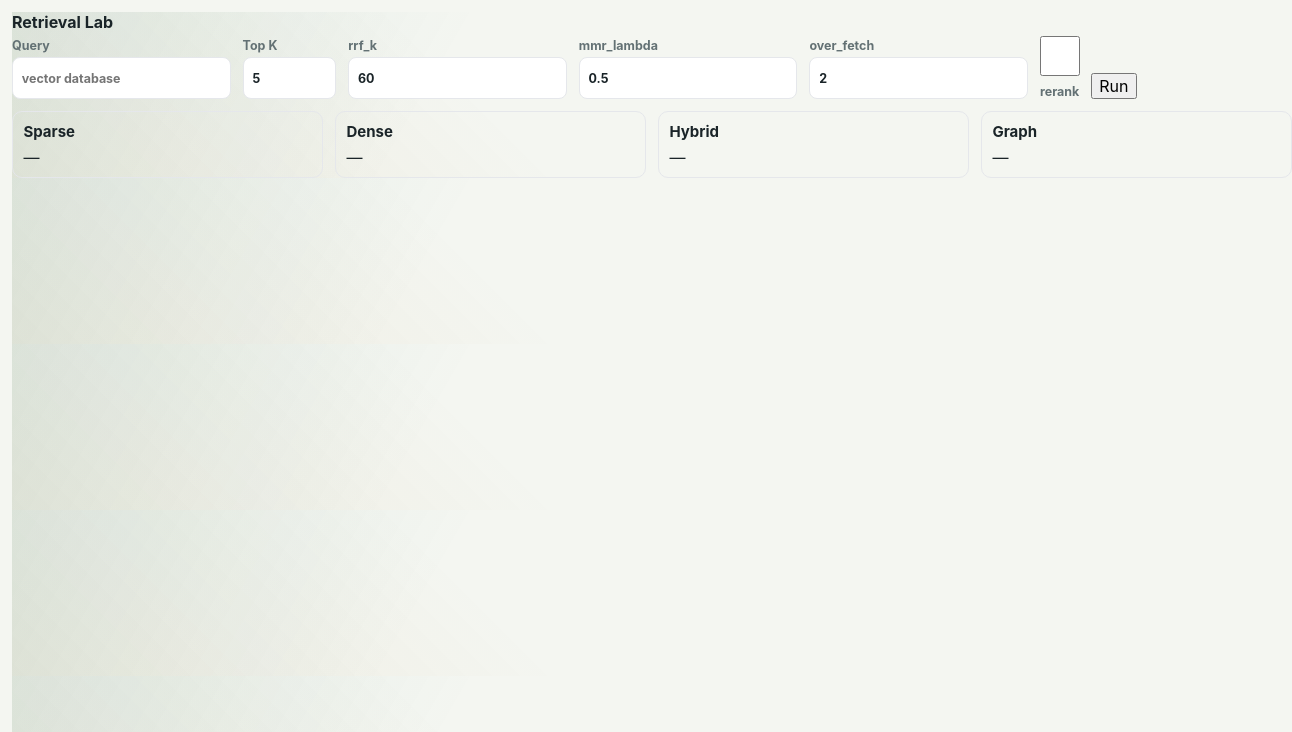
RetrievalLab › shows 'no reranker active' when rerank is on but mode is unchanged
The image size is (1292, 732).
Type "q" into the field labelled "Query" at (121, 78), box [12,57,231,99]
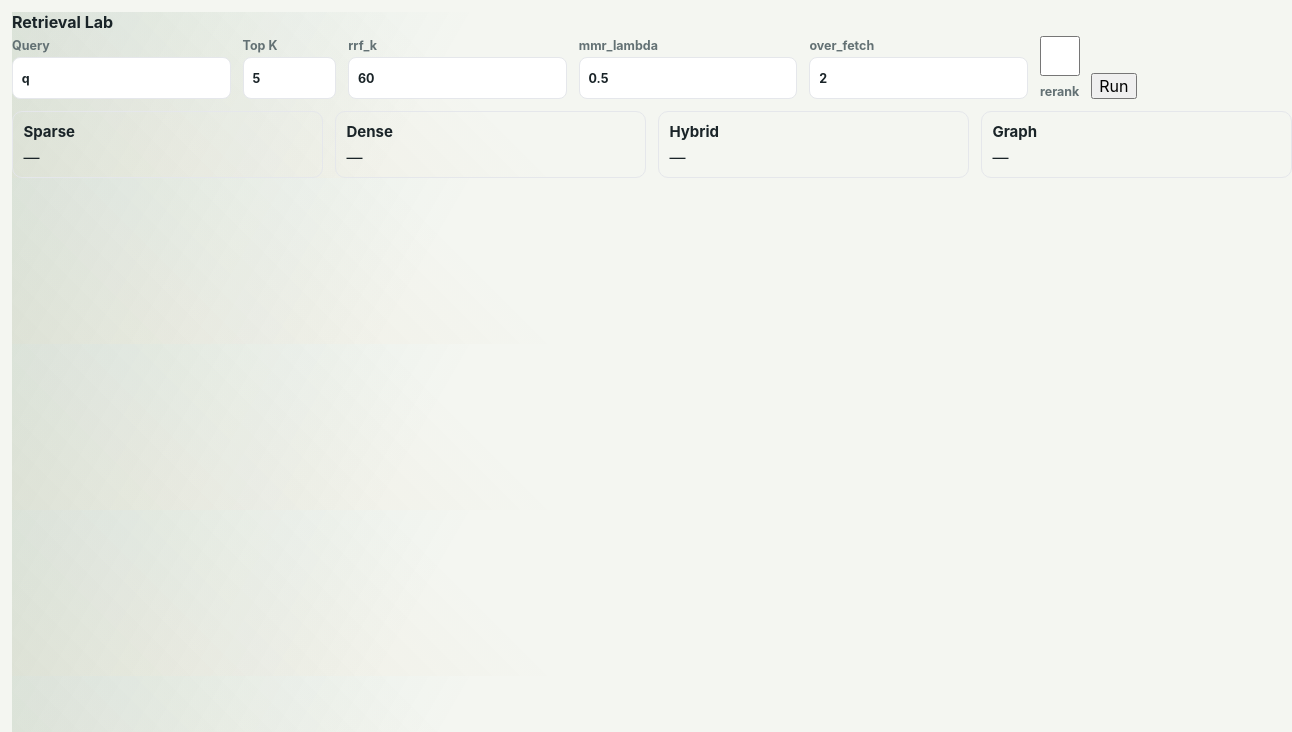
Click the checkbox labelled "rerank" at (1060, 56), box [1040,35,1080,77]
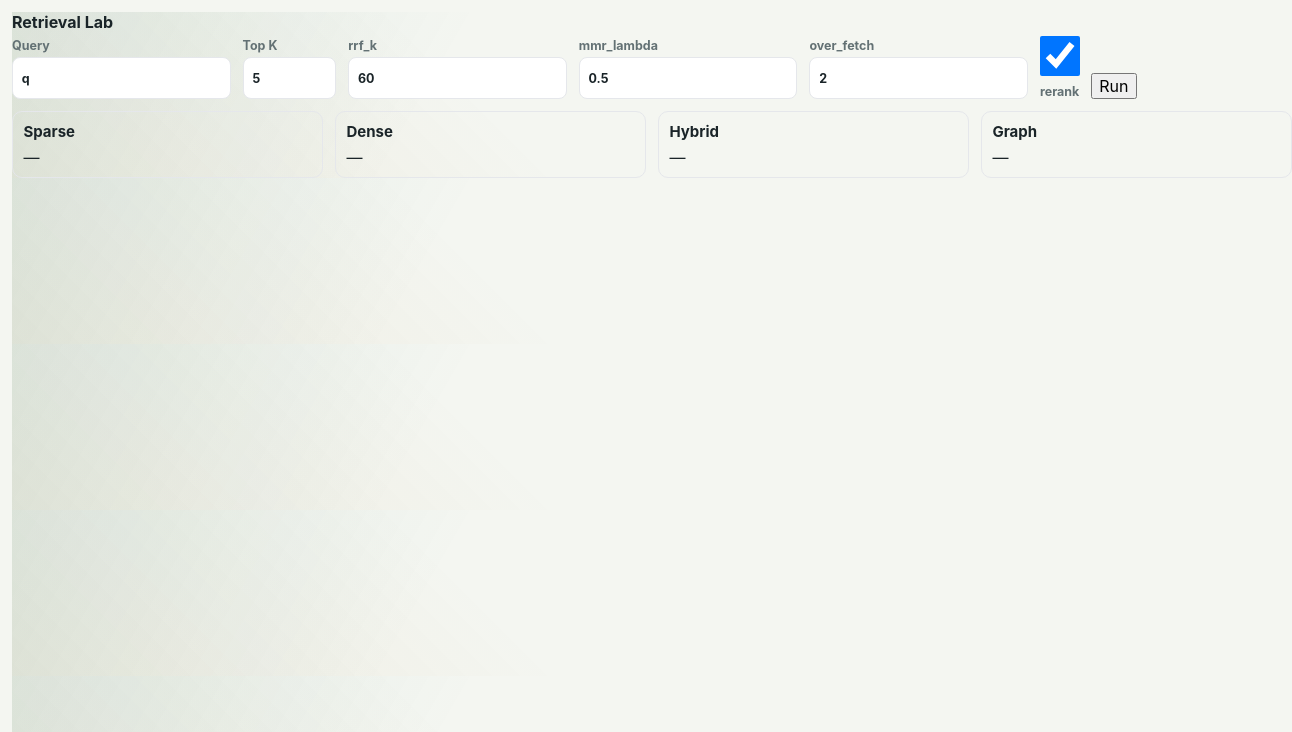
Click the button "Run" at (1114, 86), box [1091,73,1136,99]
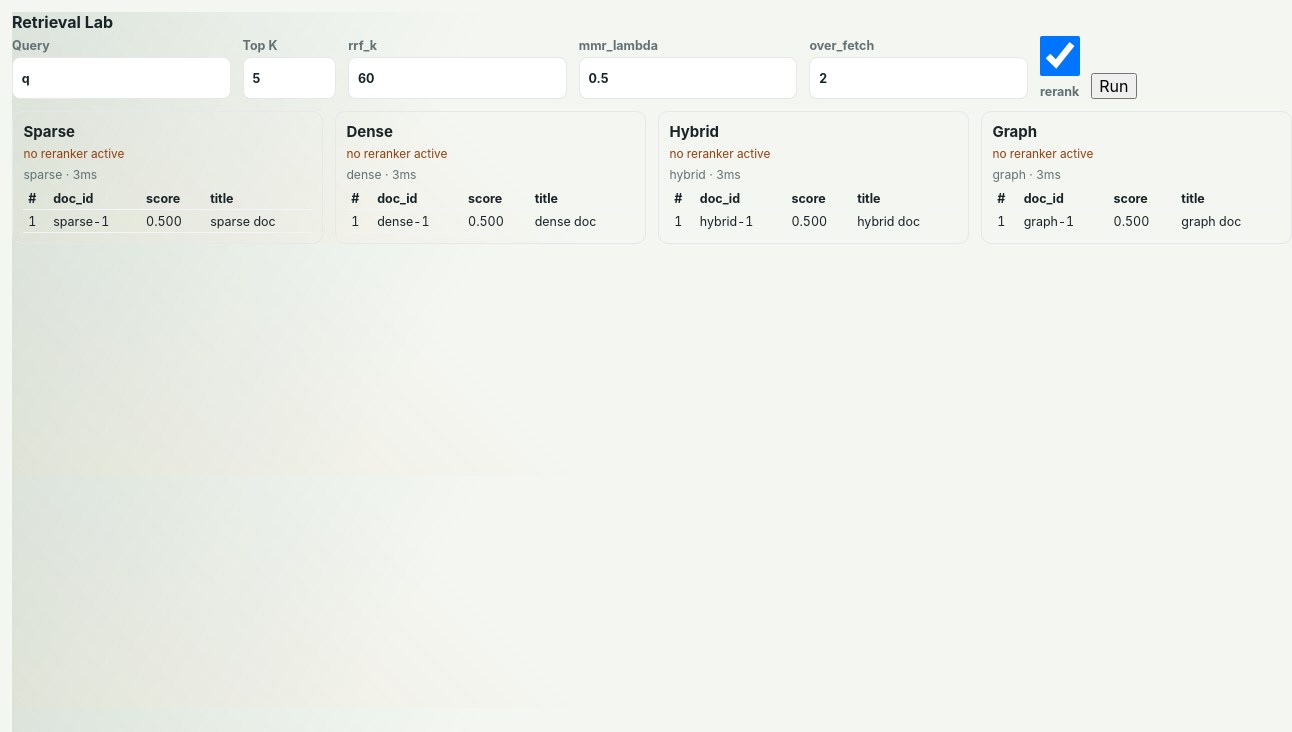
Now the 1st text "no reranker active" is shown, box [23,147,124,161]
